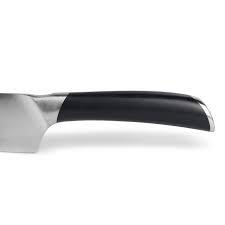Knife: (0, 89, 215, 153)
